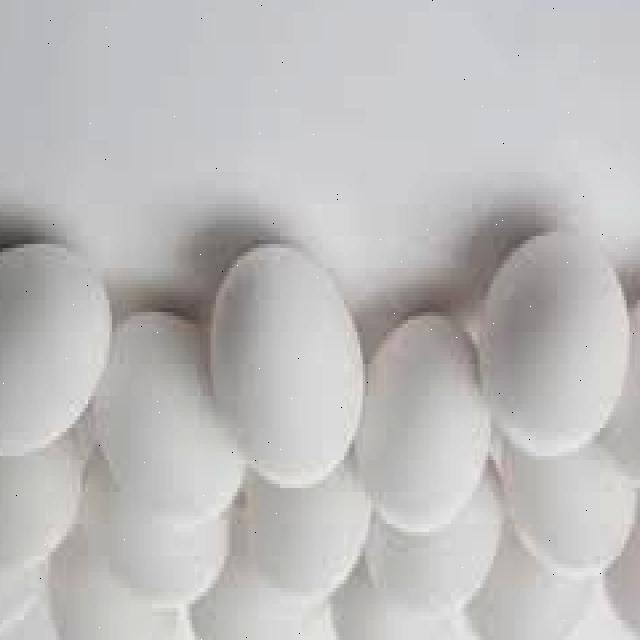White Egg: (206, 230, 368, 501), (481, 219, 631, 466), (361, 289, 496, 537), (0, 232, 120, 452)
